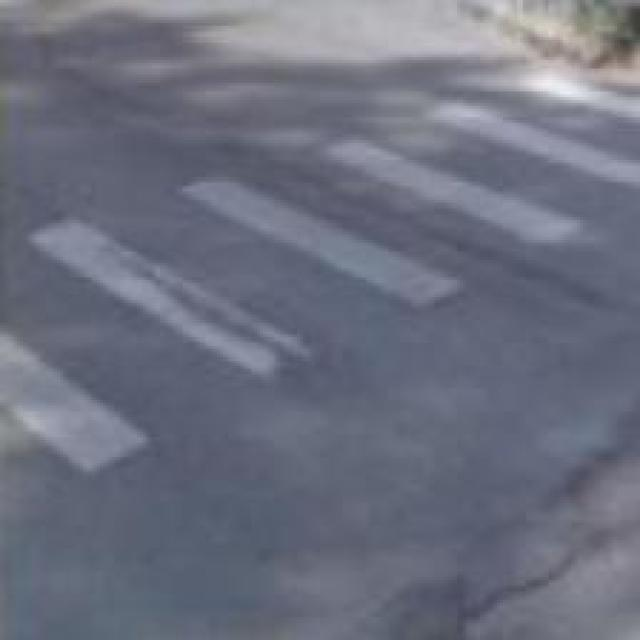walk-crossing: (0, 119, 637, 507)
